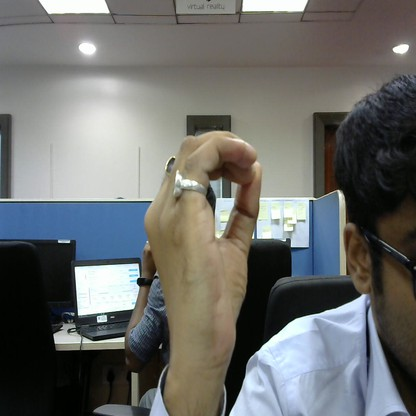o: (144, 128, 268, 354)
